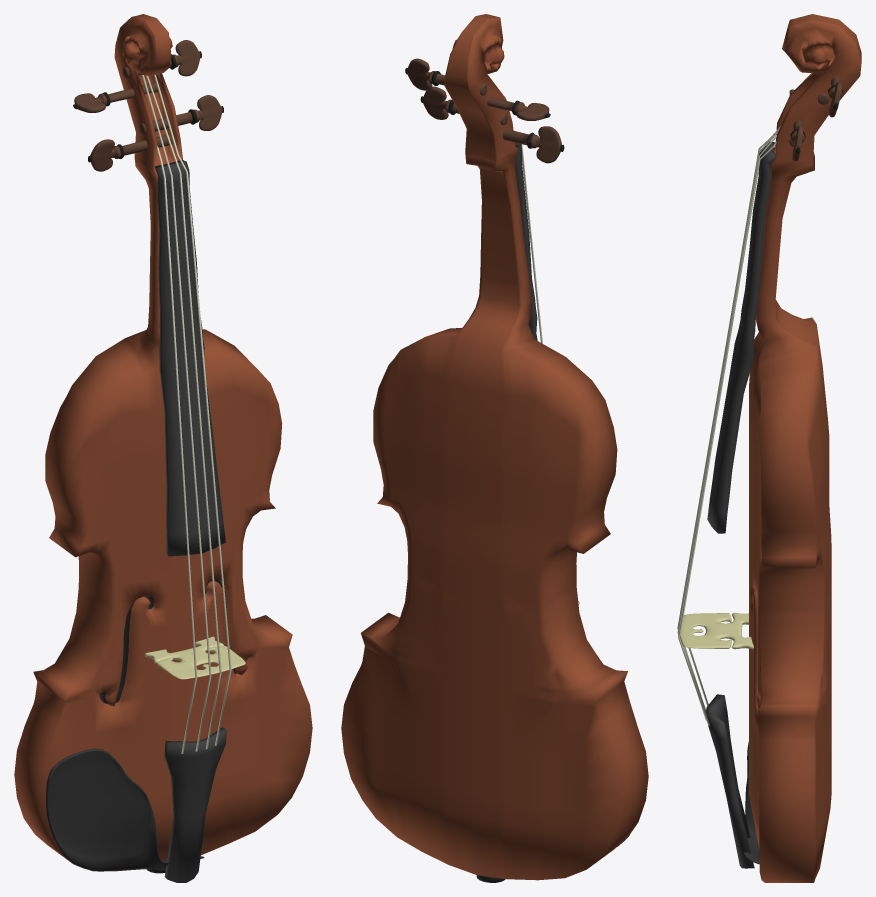
The model's file is violin.fbx.
3 views of the same model, side by side, from view 1: azimuth 30°, elevation 25°; view 2: azimuth 150°, elevation 25°; view 3: azimuth 270°, elevation 25° (orthographic). The views are drawn at different scales.
Parts seen in each view (by area): view 1: Violin, Neckboard___TailPiece, ChinRest, Strings, Tuning_Pegs, Sound_Post; view 2: Violin, Tuning_Pegs, Neckboard___TailPiece; view 3: Violin, Neckboard___TailPiece, Strings, Sound_Post, Tuning_Pegs, ChinRest.
Part boxes in pixels (left/top/right/bottom): Violin: left=14, top=14, right=312, bottom=873; Neckboard___TailPiece: left=154, top=160, right=226, bottom=882; ChinRest: left=46, top=748, right=204, bottom=871; Strings: left=142, top=75, right=231, bottom=753; Tuning_Pegs: left=73, top=40, right=223, bottom=171; Sound_Post: left=145, top=636, right=245, bottom=679; Violin: left=341, top=14, right=648, bottom=882; Tuning_Pegs: left=405, top=58, right=564, bottom=163; Neckboard___TailPiece: left=515, top=142, right=537, bottom=340; Violin: left=749, top=14, right=861, bottom=882; Neckboard___TailPiece: left=705, top=141, right=776, bottom=868; Strings: left=677, top=126, right=780, bottom=725; Sound_Post: left=680, top=612, right=753, bottom=649; Tuning_Pegs: left=789, top=77, right=843, bottom=161; ChinRest: left=743, top=741, right=759, bottom=864.
Size of the model in its own units: 6.39 by 18.91 by 3.71.
